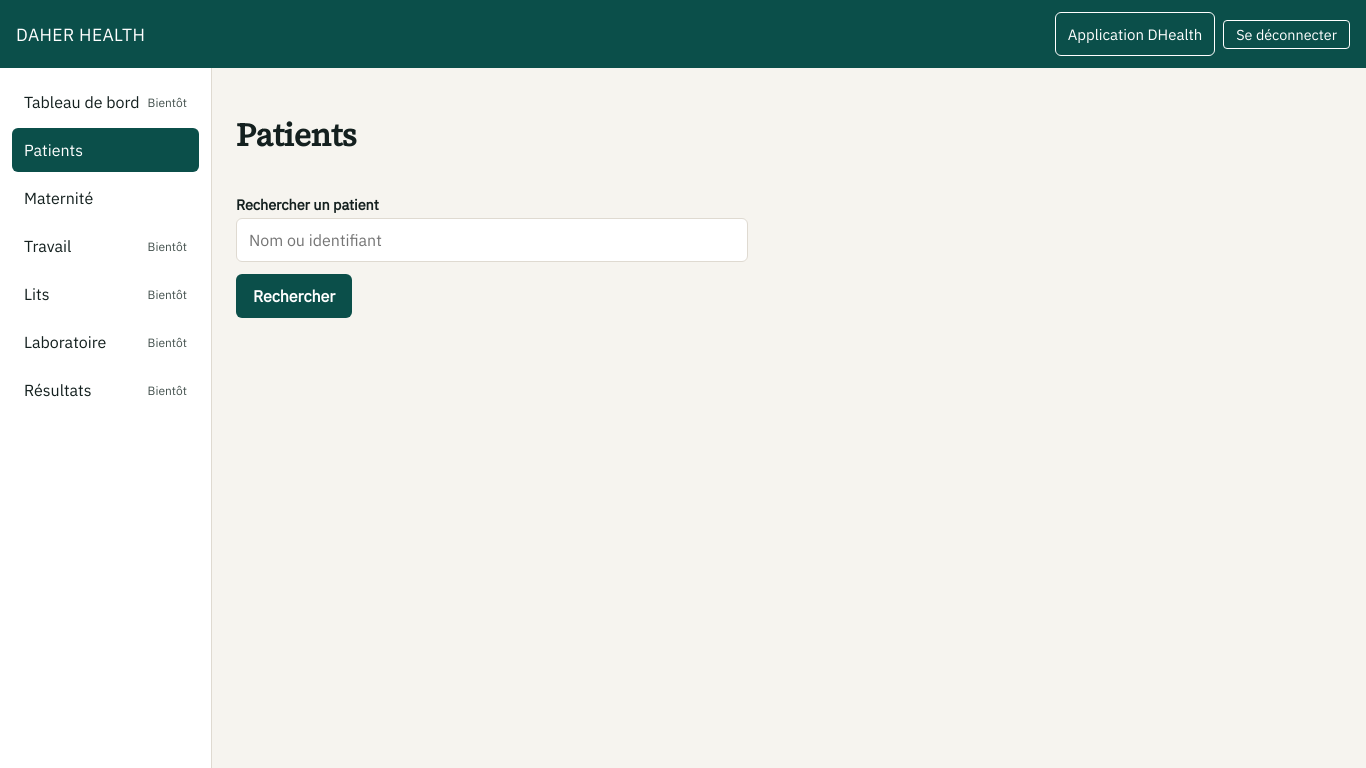
Test: App › shows an honest "not yet available" screen for an unbuilt nav item, not a broken one
Click the button "Laboratoire Bientôt". click: point(105, 342)
box: 12,320 -> 199,364
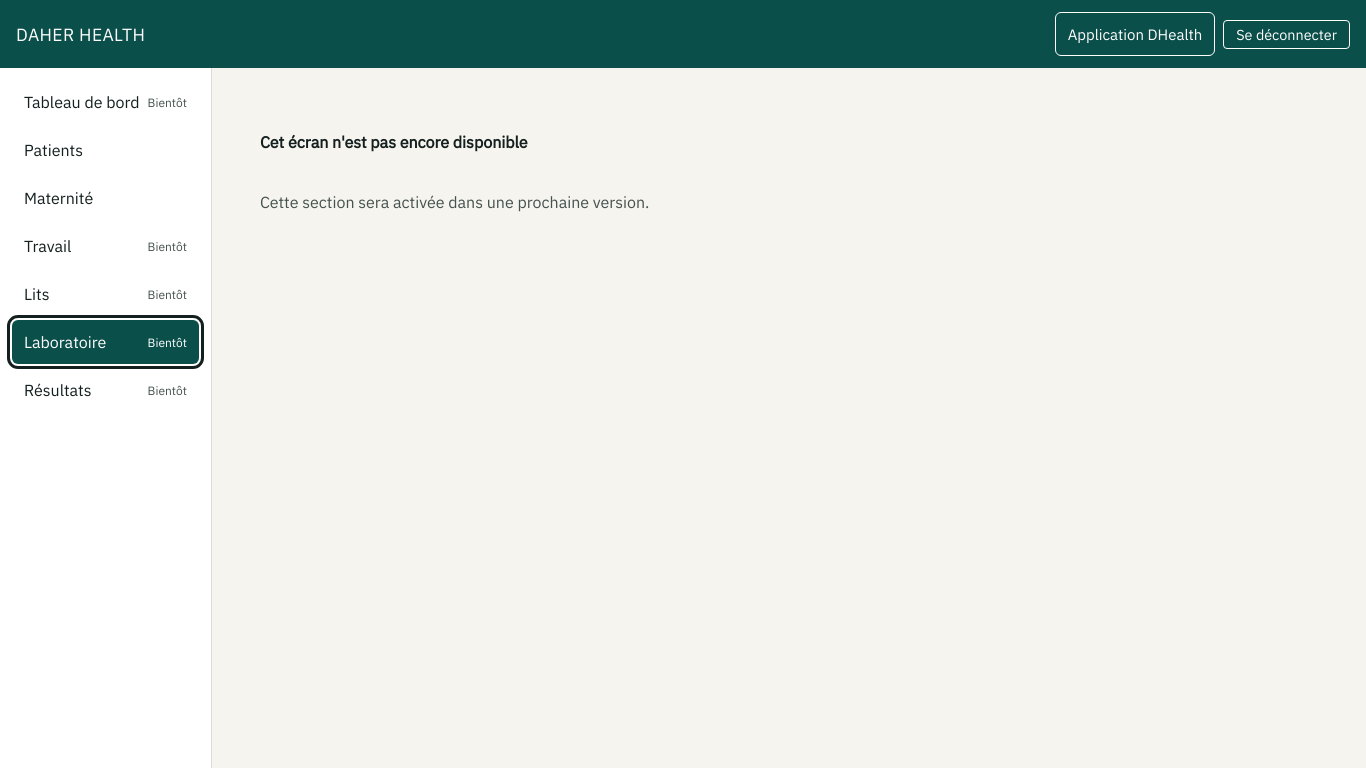
Expected: the text "Cet écran n'est pas encore disponible" is shown, 260,132 -> 528,152
